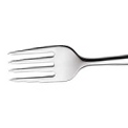Fork: (7, 37, 128, 89)
